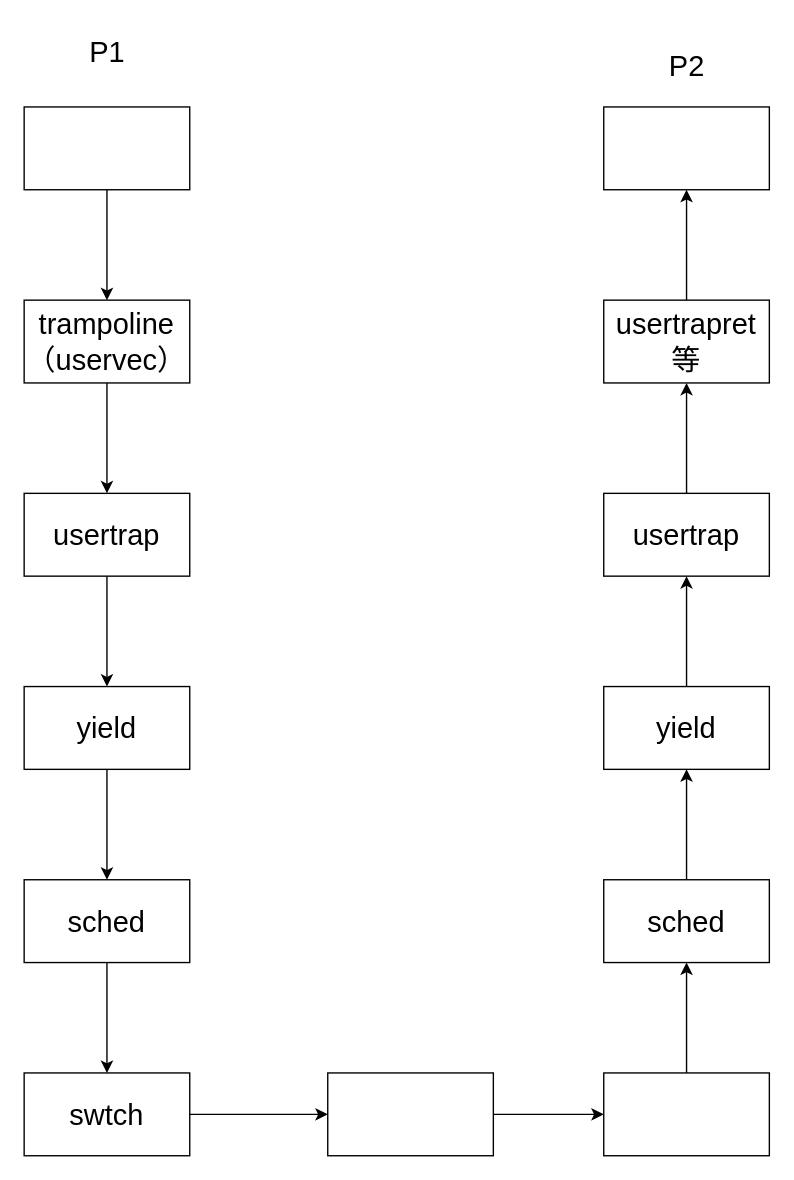
This 794x1180 diagram has some shape labels left out. The shapes that lost their labels are listed below. From the top down, each one's centre as x and y in pixels, then its label:
At (x=106, y=148): "定时器中断".
At (x=685, y=148): "返回用户空间".
At (x=409, y=1114): "CPU调度器线程（scheduler）".
At (x=685, y=1114): "执行scheduler的swtch".
